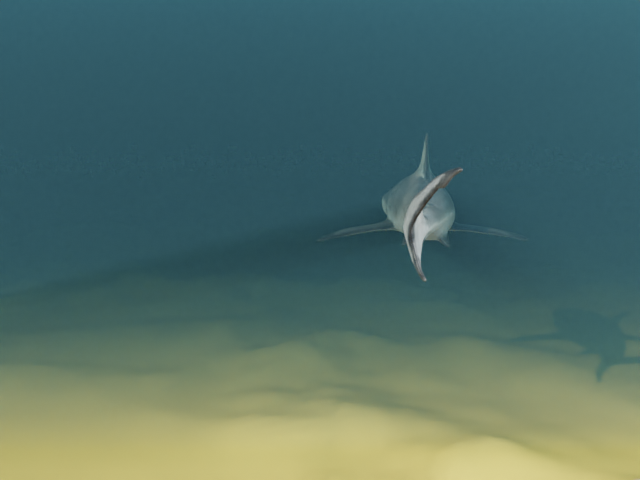Carribean Shark.001: (316, 132, 529, 281)
